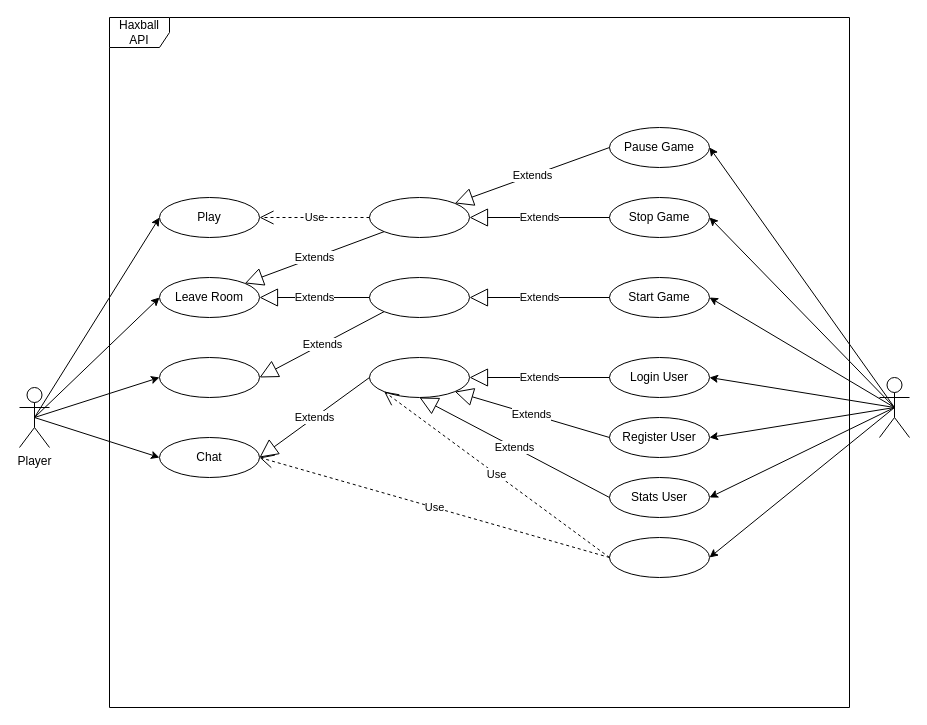
Image size: 927x725. Some labels were removed from this diagram. Each missing label, with the box of its shape:
Bot: (878, 376, 910, 438)
Filter messages: (608, 536, 710, 578)
Handle commands: (368, 356, 470, 398)
Handle game: (368, 196, 470, 238)
Handle players: (368, 276, 470, 318)
Join Room: (158, 356, 260, 398)
